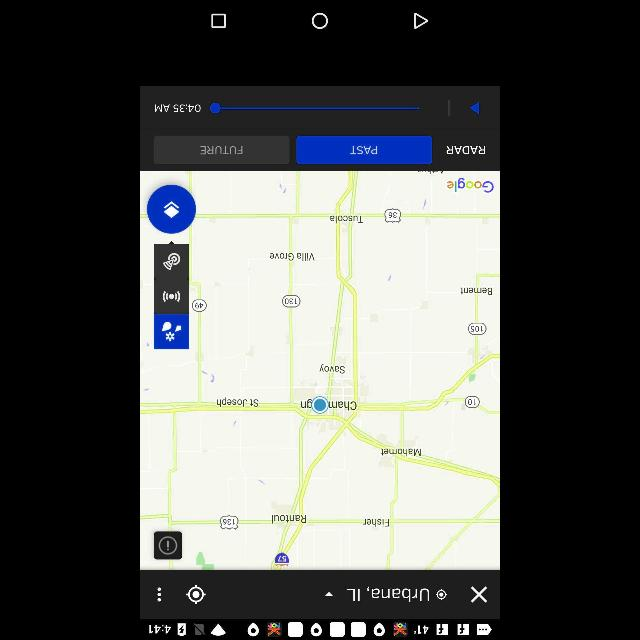button: (148, 182, 195, 234), (212, 101, 420, 112)
icon: (185, 584, 207, 606), (469, 585, 489, 603), (413, 12, 429, 30), (312, 12, 328, 30), (212, 14, 226, 28), (434, 589, 448, 601), (468, 102, 480, 115), (157, 586, 163, 604), (324, 590, 334, 600)
map: (141, 171, 499, 569)
panel: (140, 0, 500, 40)
text: (341, 587, 432, 605), (198, 144, 244, 156), (446, 144, 486, 156), (153, 103, 201, 113), (349, 146, 379, 156)
textbutton: (296, 136, 432, 164), (154, 136, 290, 164)
toolbar: (140, 570, 500, 618)
uppertaskbar: (140, 618, 500, 640)
